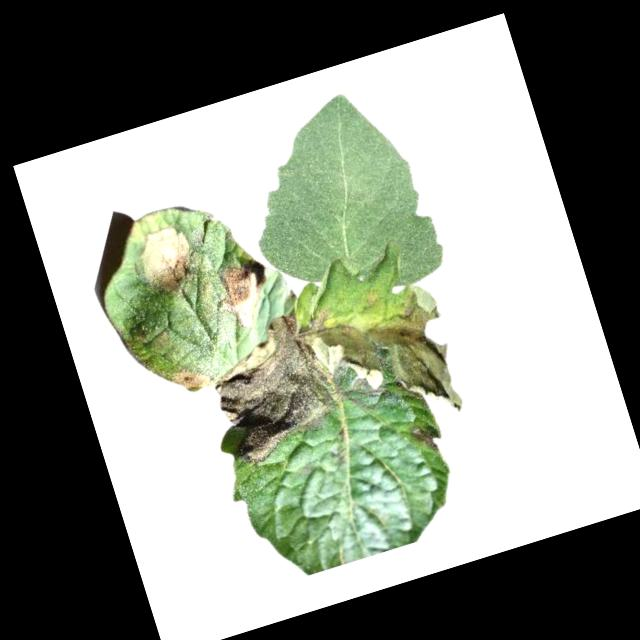Late_blight: (310, 276, 470, 446), (198, 308, 344, 469), (123, 219, 208, 306), (207, 257, 278, 336), (167, 362, 211, 396), (408, 421, 445, 460)
healthy: (222, 77, 450, 324)
